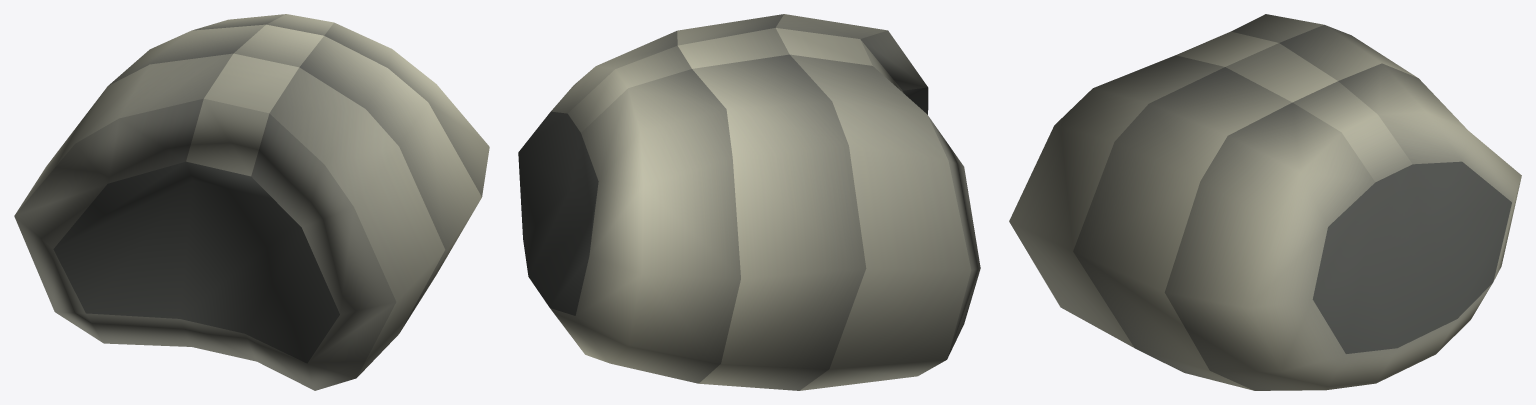
The model's file is deco_ribcage.fbx.
3 renders of one model, left to right at view 1: azimuth 30°, elevation 25°; view 2: azimuth 150°, elevation 25°; view 3: azimuth 270°, elevation 25°, orthographic. The views are drawn at different scales.
Parts seen in each view (by area): view 1: deco_ribcage; view 2: deco_ribcage; view 3: deco_ribcage.
Part boxes in pixels (x1,y1,x2,y2): deco_ribcage: [14, 14, 489, 390]; deco_ribcage: [518, 14, 980, 390]; deco_ribcage: [1009, 14, 1521, 390].
Size of the model in its own units: 55.89 by 34.89 by 55.76.
